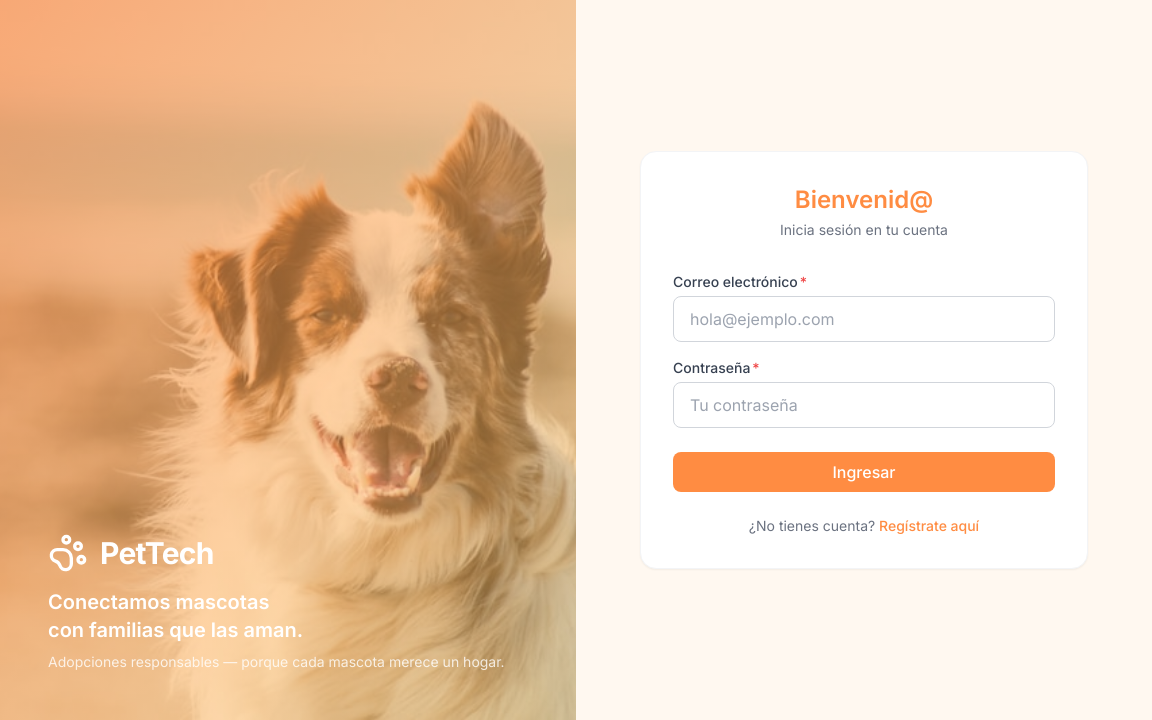
it: LoginPage — validación del campo correo › shows error when email is empty on submit
Click the button "Ingresar" at {"x": 864, "y": 472}, box [673,452,1055,492]
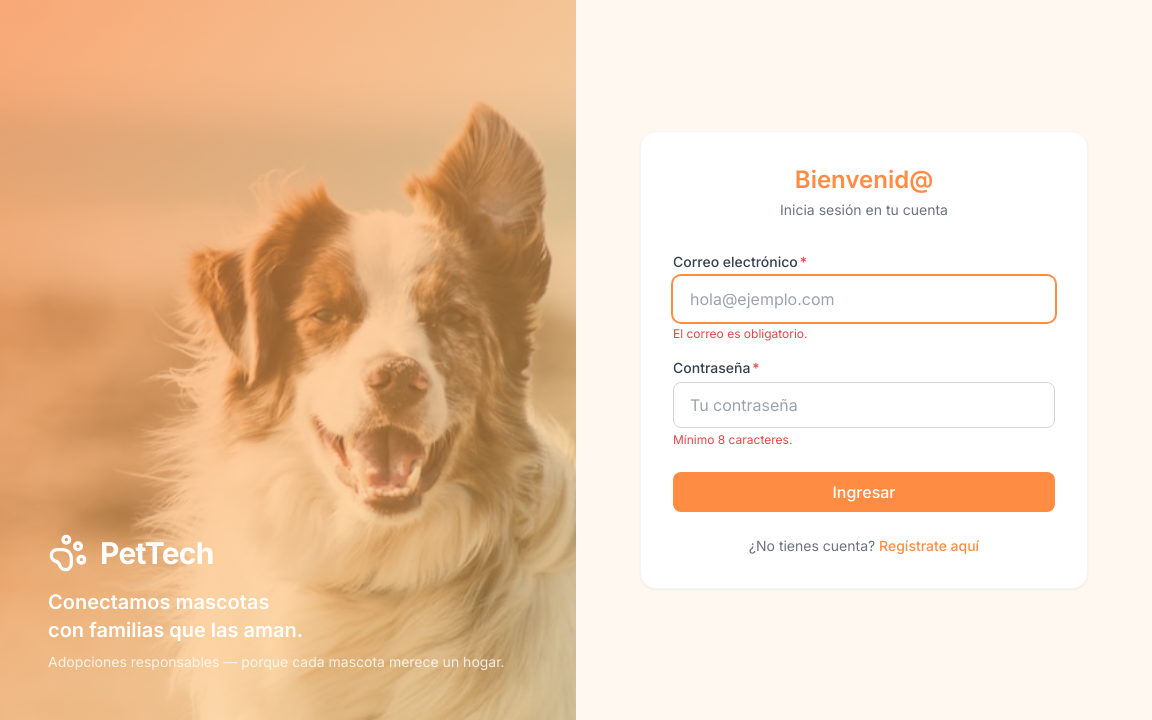
Expected: the text "El correo es obligatorio." is shown, [673,326,808,341]
